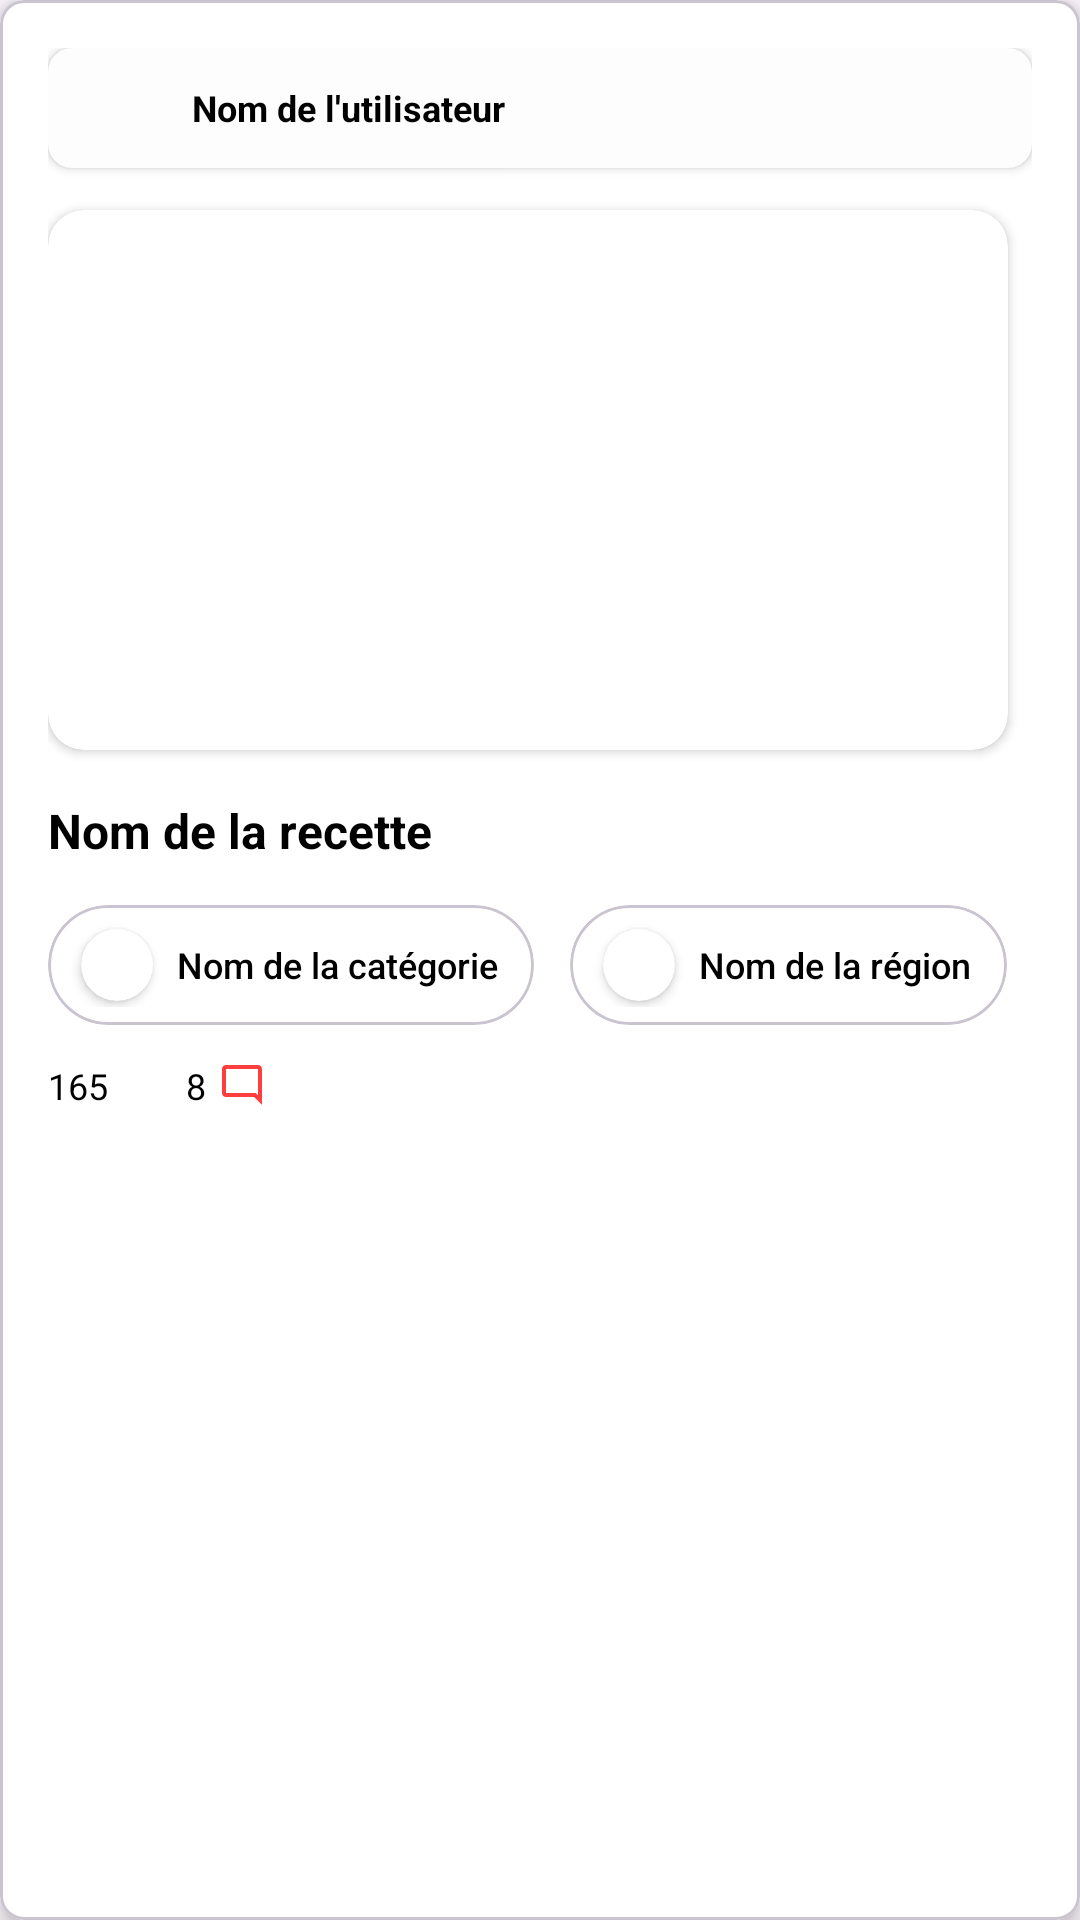

Locate icon controls on the screen. Image size 1080 x 1920, boxes as detection(x1, y1, x2, y2).
comment: detection(222, 1065, 262, 1105)
